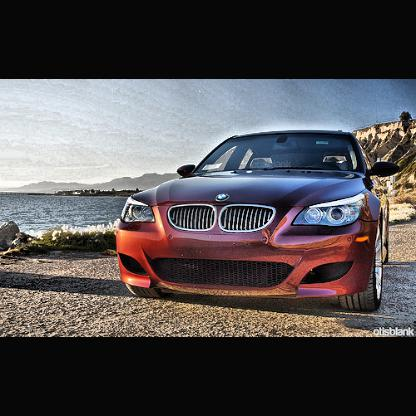BMW M5 Sedan 2010: (117, 130, 401, 314)
